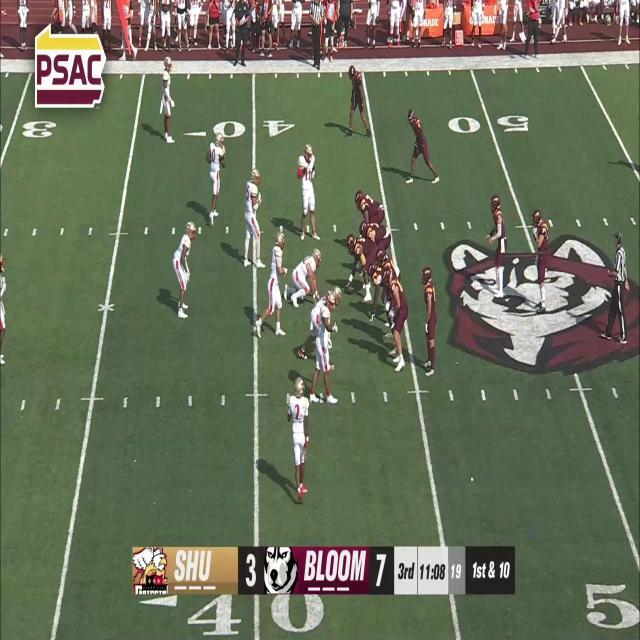football: (344, 285, 354, 295)
